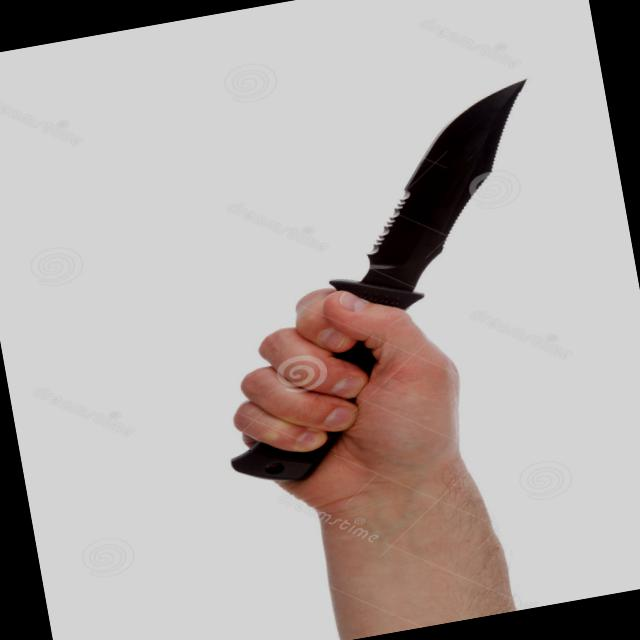knife: (204, 66, 592, 448)
